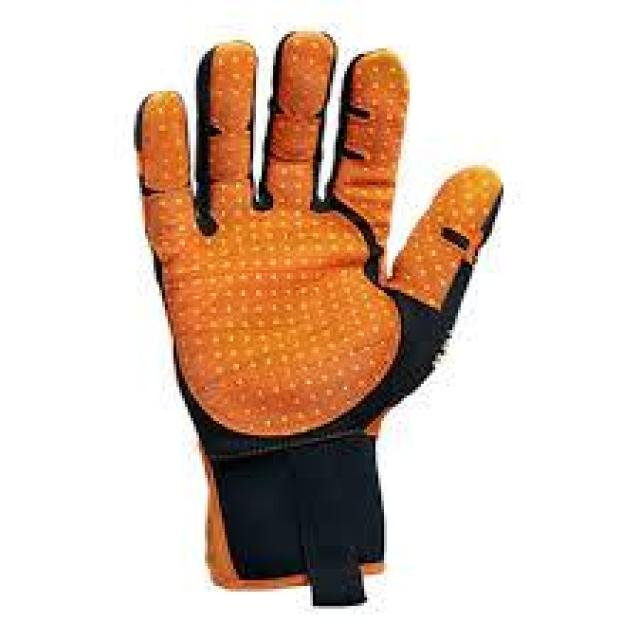Gloves: (122, 22, 502, 610)
